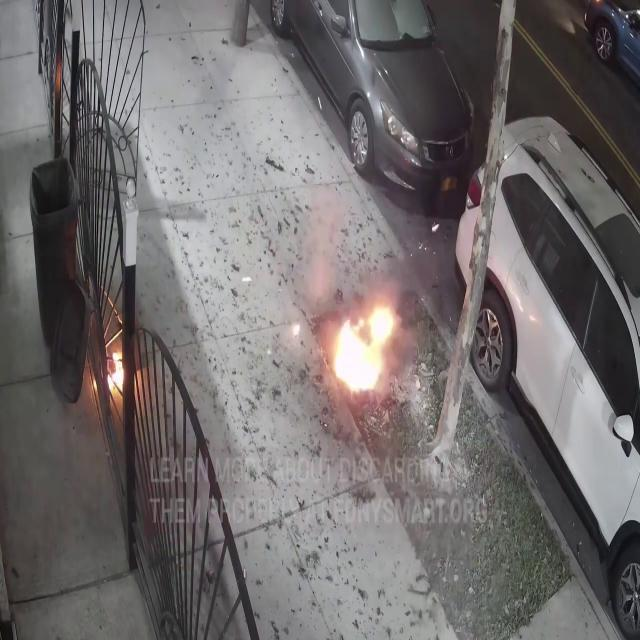Fire: (328, 296, 400, 398), (108, 340, 126, 410)
